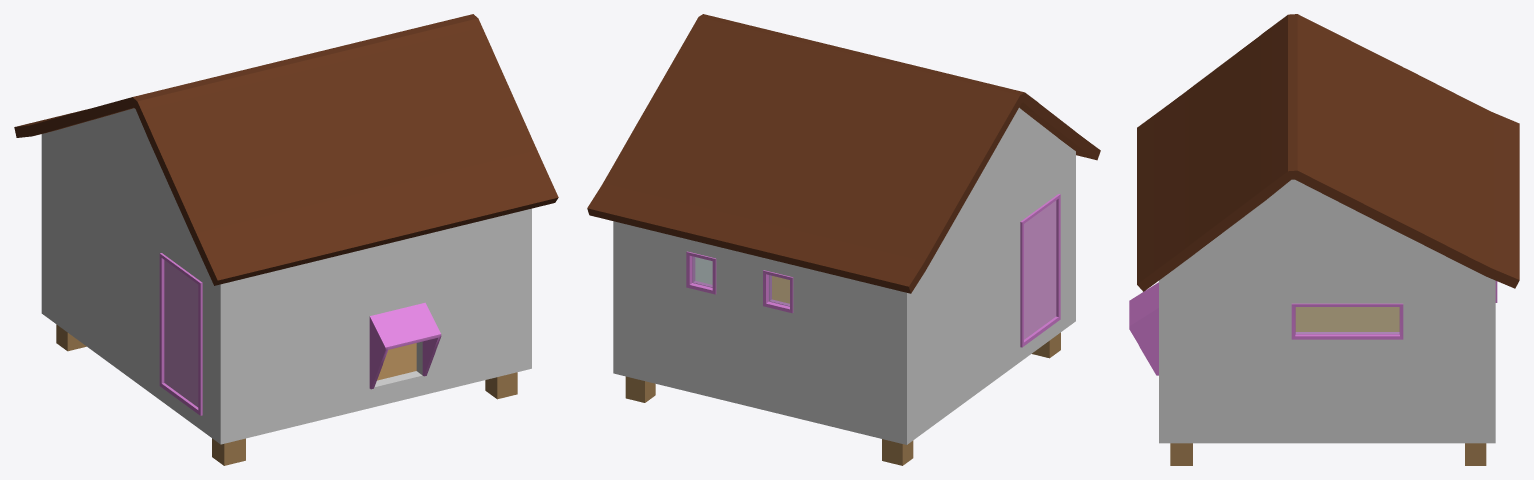
The model's file is OutsideCoop.fbx.
3 views of the same model, side by side, from view 1: azimuth 30°, elevation 25°; view 2: azimuth 150°, elevation 25°; view 3: azimuth 270°, elevation 25° (orthographic). The views are drawn at different scales.
Parts seen in each view (by area): view 1: Wall_Floor, Door1; view 2: Wall_Floor, Door1; view 3: Wall_Floor.
Boxes of the visible parts, box(x1,y1,x2,y2) form: Wall_Floor: box(14, 14, 558, 465); Door1: box(164, 260, 198, 407); Wall_Floor: box(587, 14, 1100, 465); Door1: box(1024, 200, 1056, 339); Wall_Floor: box(1129, 14, 1519, 465).
Bounding box in the file's own units: 4.39 × 4.01 × 4.63.
